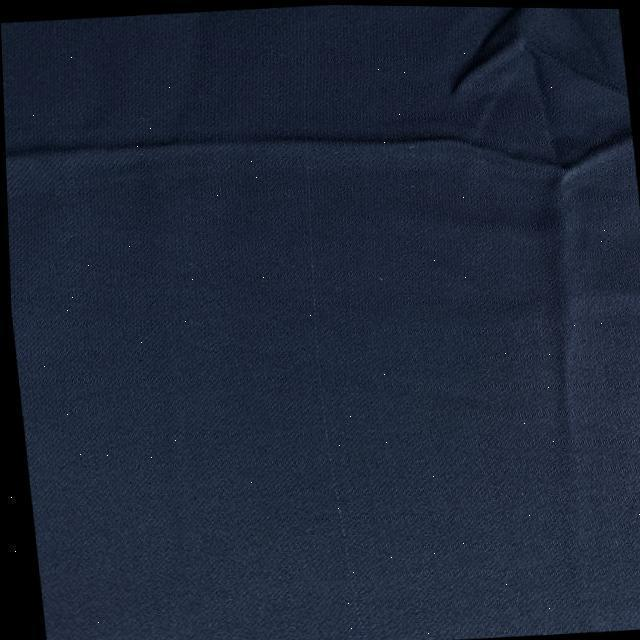pulled_or_thick_thread: (304, 213, 367, 639)
